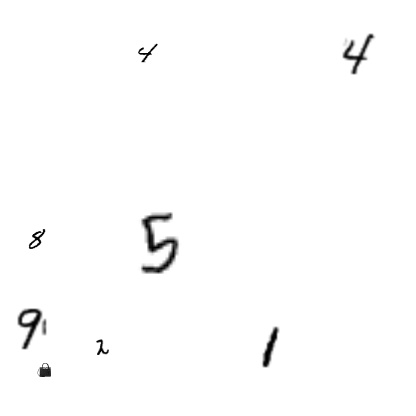1: (241, 319, 297, 375)
2: (90, 337, 112, 359)
4: (329, 24, 385, 80), (132, 38, 160, 66)
5: (115, 201, 199, 285)
8: (22, 225, 50, 253)
9: (2, 295, 58, 351)
Bag: (37, 363, 51, 377)
